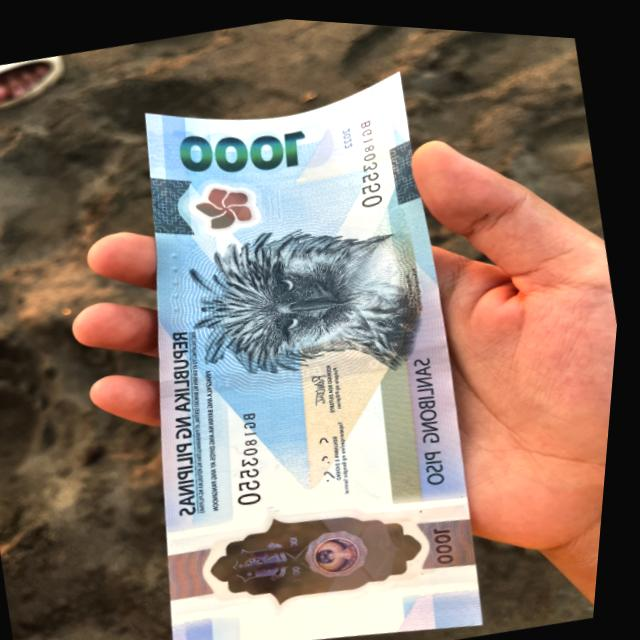clear_window: (152, 436, 496, 640)
eagle: (171, 181, 459, 400)
sampaguita: (173, 149, 289, 250)
